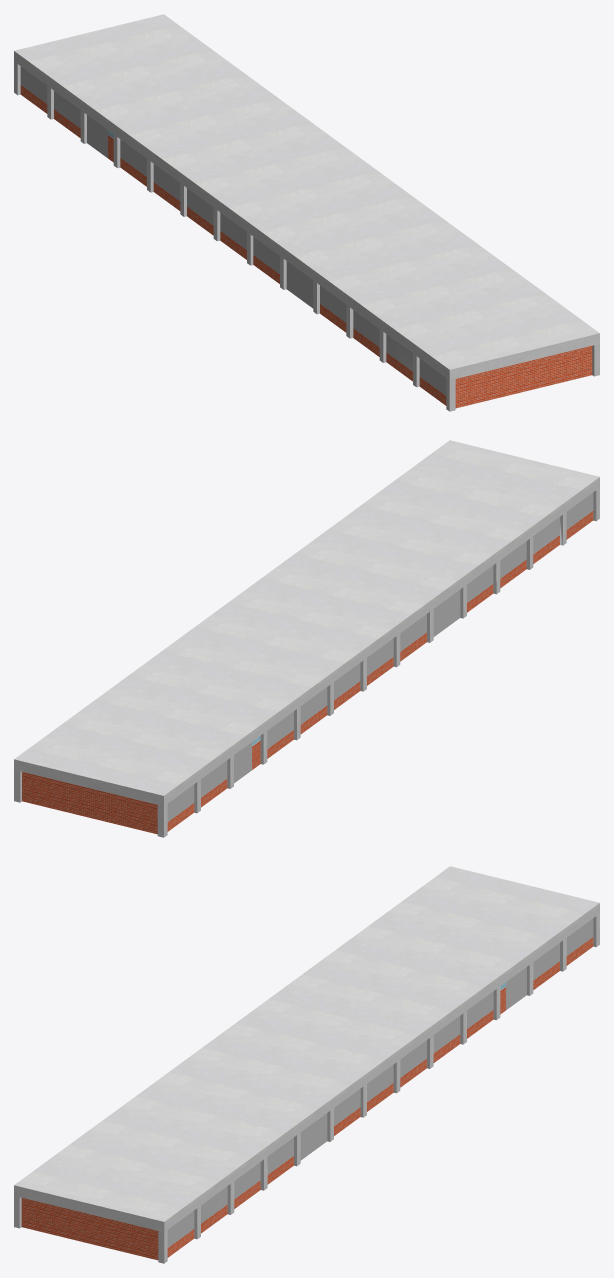
Rendered from pabellon_1.fbx.
3 renders of one model, top to bottom at view 1: azimuth 30°, elevation 25°; view 2: azimuth 150°, elevation 25°; view 3: azimuth 330°, elevation 25°, orthographic.
Visible parts, largest first — view 1: pabellon_1_final; view 2: pabellon_1_final; view 3: pabellon_1_final.
Boxes of the visible parts, box(x1,y1,x2,y2) form: pabellon_1_final: box(14, 14, 599, 411); pabellon_1_final: box(14, 440, 599, 837); pabellon_1_final: box(14, 866, 599, 1263).
Size of the model in its own units: 1381 by 368 by 6944.
